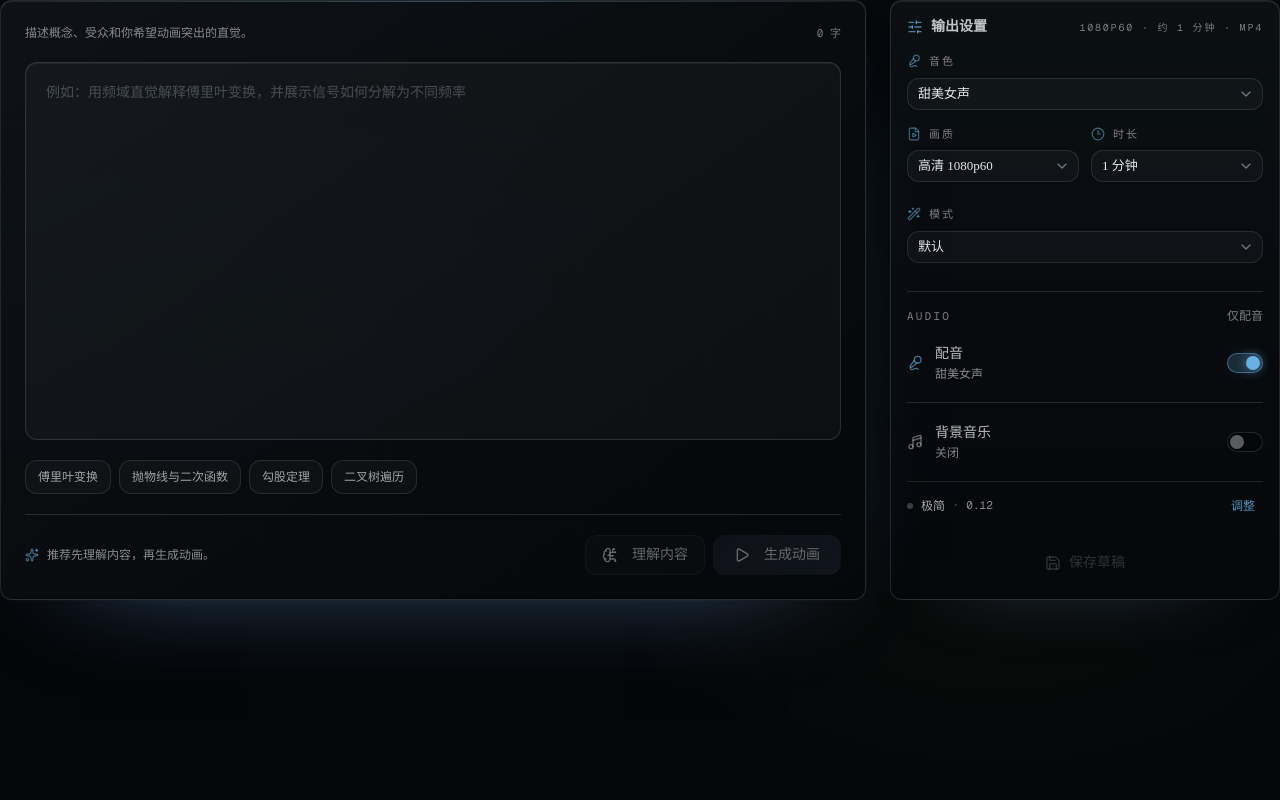
Scenario: TaskForm › clarifies the prompt and keeps generation as the next action
Step 1. Type "高斯定理" into the text box named "讲解主题" → (433, 251), box [25, 62, 841, 440]
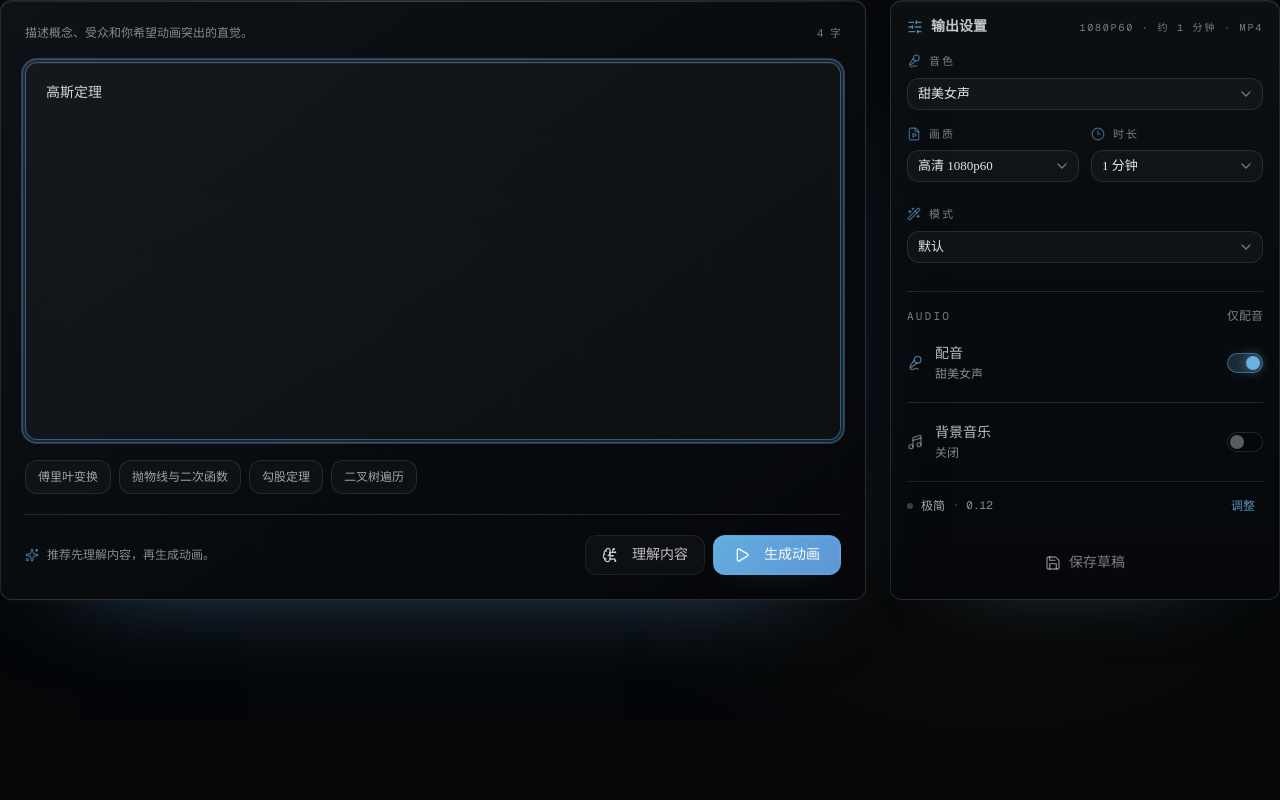
Step 2. Click the button "理解内容" → (645, 555), box [585, 535, 705, 575]
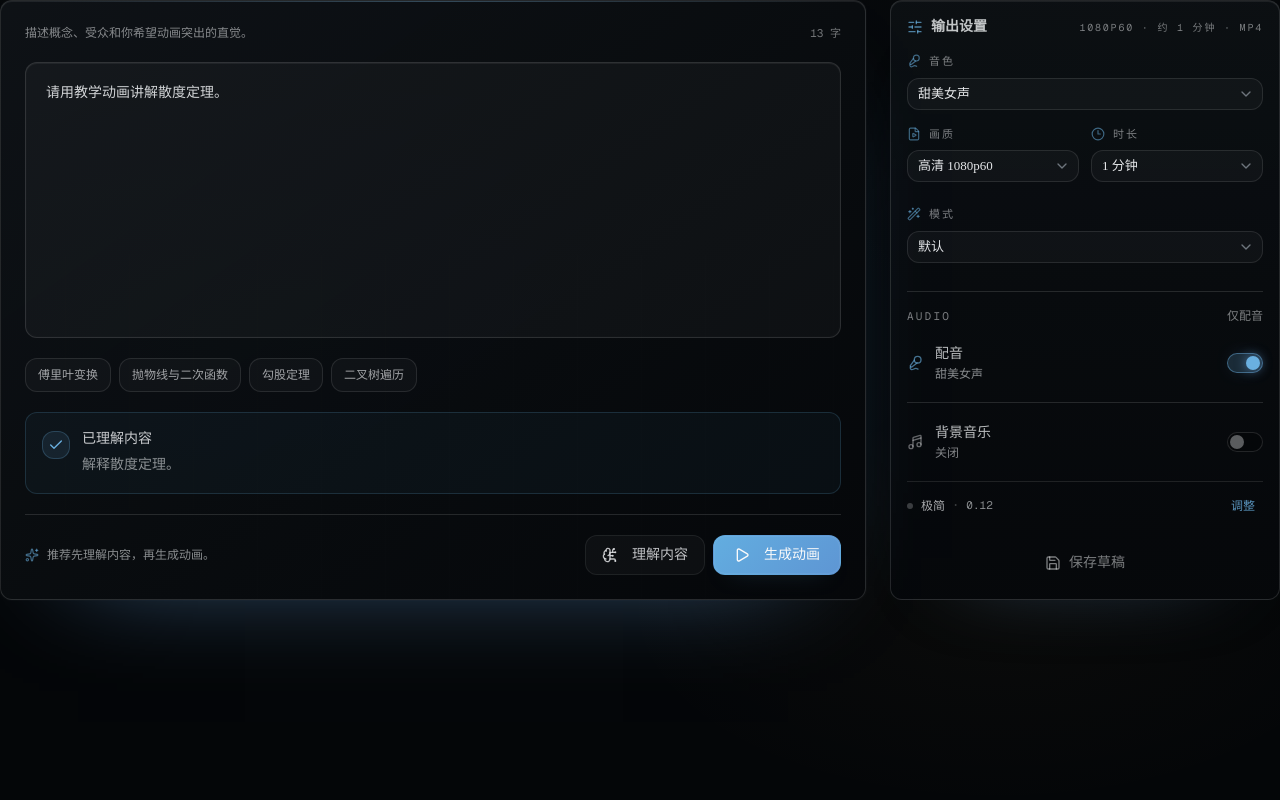
Now the text "已理解内容" is shown, box [82, 431, 152, 446]
Now the text box named "讲解主题" holds "请用教学动画讲解散度定理。", box [25, 62, 841, 338]
